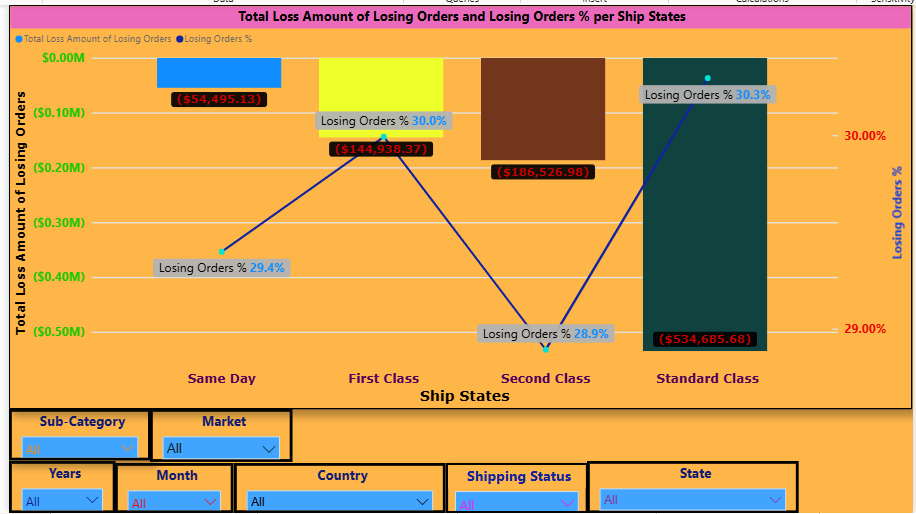

Layout of this report page (visuals, bound fields, positions):
{"tool":"powerbi","page":{"name":"Page 9 \\2  Shipping Status","canvas":[1280,720],"ordinal":9},"visuals":[{"type":"slicer","title":"Shipping Status","fields":{"Values":["fact table Global _ Superstore _ Cleaned.Shipping Status"]},"box":[618.7,648.5,200.5,71.1],"z":1000},{"type":"slicer","title":"Years ","fields":{"Values":["Dim_Date.Year"]},"box":[0,645.7,150.8,74],"z":2000},{"type":"slicer","title":"Month","fields":{"Values":["Dim_Date.Month Name","Dim_Date.Month"]},"box":[150.8,648.5,167.8,71.1],"z":3000},{"type":"slicer","title":"Sub-Category","fields":{"Values":["Dim_Product.Sub-Category"]},"box":[0,573.2,200.5,72.5],"z":4000},{"type":"slicer","title":"Market","fields":{"Values":["Dim_Customer.Market"]},"box":[200.5,573.2,202,75.4],"z":5000},{"type":"slicer","title":"Country","fields":{"Values":["Dim_Customer.Country"]},"box":[318.6,648.5,300.1,71.1],"z":6000},{"type":"slicer","title":"State","fields":{"Values":["fact table Global _ Superstore _ Cleaned.Order ID"]},"box":[819.2,645.7,300.1,74],"z":7000},{"type":"lineClusteredColumnComboChart","title":"Total Loss Amount of Losing Orders and Losing Orders % per Ship States","fields":{"Category":["fact table Global _ Superstore _ Cleaned.Ship States"],"Y":["fact table Global _ Superstore _ Cleaned.Total Loss Amount of Losing Orders"],"Y2":["fact table Global _ Superstore _ Cleaned.Losing Orders %"]},"box":[0,0,1280,573.2],"z":8000}]}

Visuals, with their boxes in screenshot pixels (x1, y1, x2, y2):
"Shipping Status" slicer: x1=444 y1=458 x2=585 y2=508
"Years " slicer: x1=10 y1=456 x2=115 y2=508
"Month" slicer: x1=115 y1=458 x2=233 y2=508
"Sub-Category" slicer: x1=10 y1=405 x2=150 y2=456
"Market" slicer: x1=150 y1=405 x2=292 y2=458
"Country" slicer: x1=233 y1=458 x2=444 y2=508
"State" slicer: x1=585 y1=456 x2=796 y2=508
"Total Loss Amount of Losing Orders and Losing Orders % per Ship States" lineClusteredColumnComboChart: x1=10 y1=2 x2=909 y2=405
